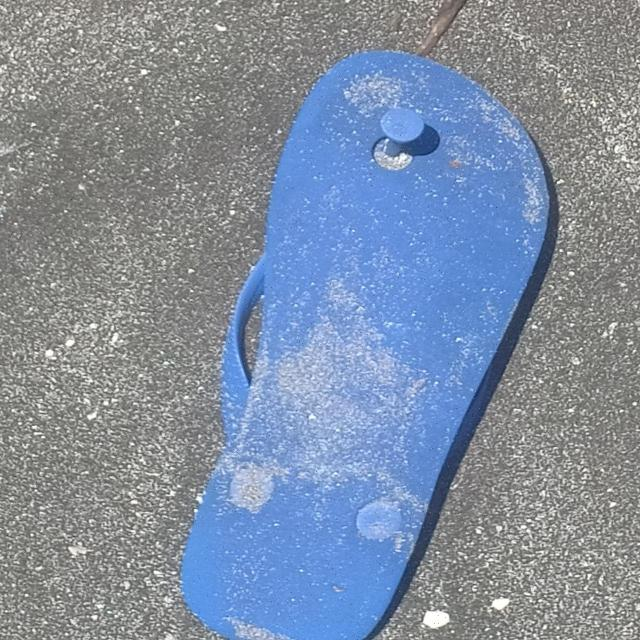rubber_waste: (177, 49, 556, 640)
